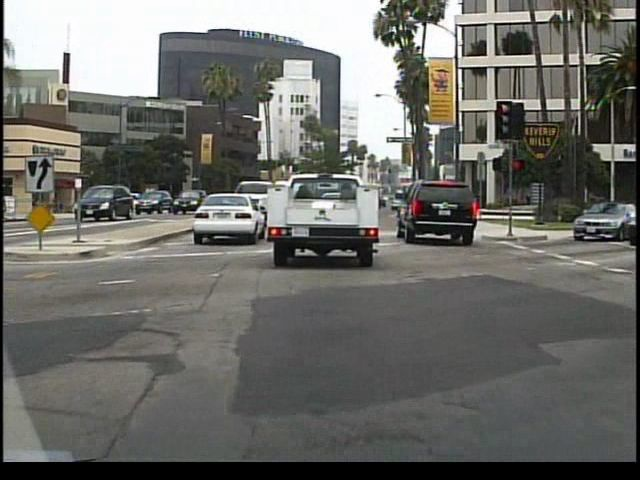person: (97, 188, 116, 222)
